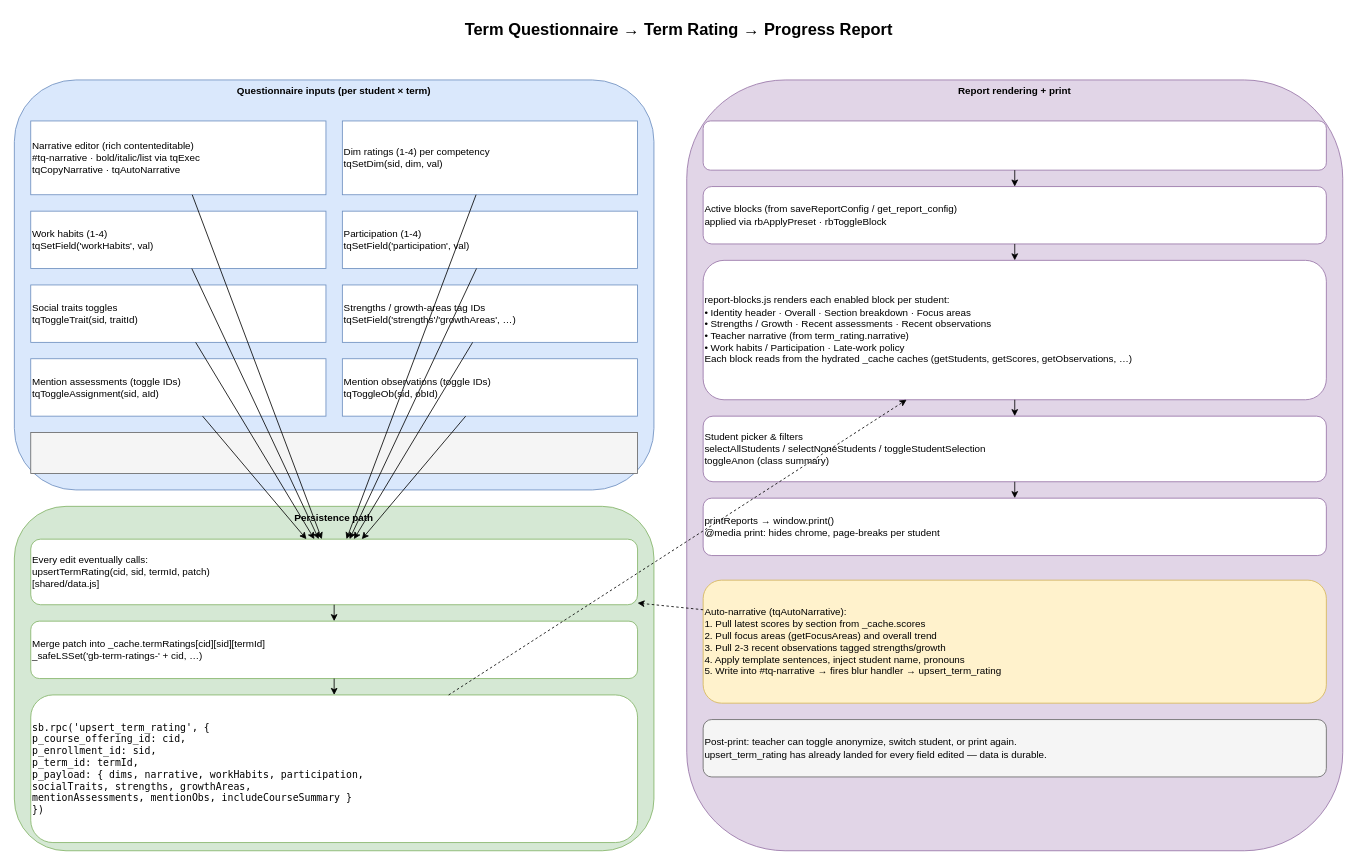
Some shapes in this 1357 by 865 pixel diagram are drawn without their labels. Each missing label, with the centre of its shape:
Student navigation: tqNextStudent · tqPrevStudent (ephemeral): point (334, 453)
User switches to Progress Reports tab page-reports.js · switchTab(progress): point (1014, 145)
